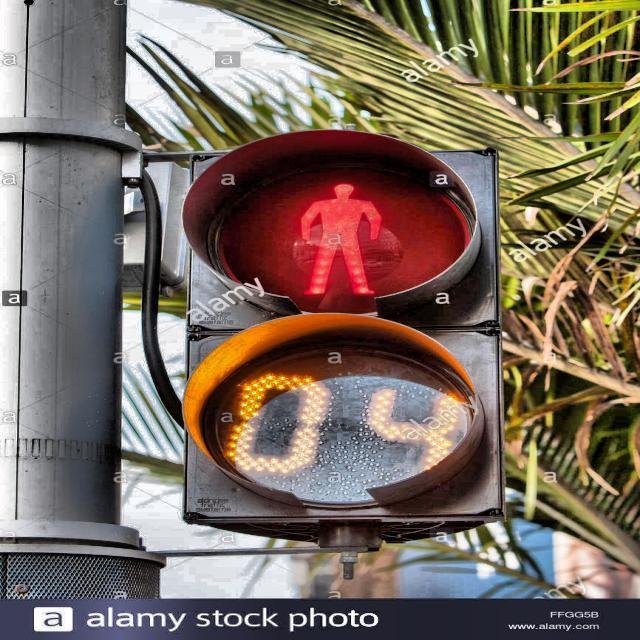red_light: (290, 180, 388, 298)
